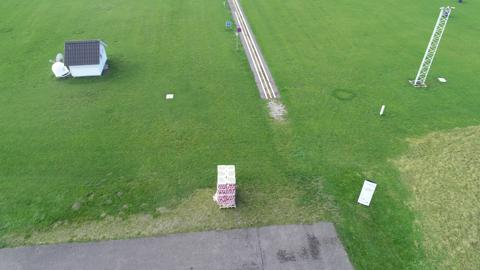RockwoolPallet: (216, 164, 237, 209)
